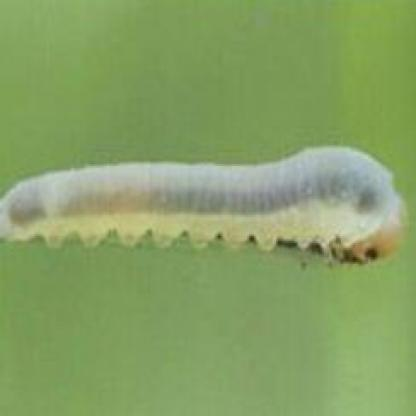sawfly: (0, 141, 416, 275)
